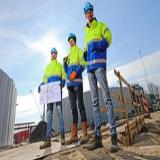Helmet: (83, 2, 94, 14), (68, 32, 76, 40), (50, 47, 58, 54)
